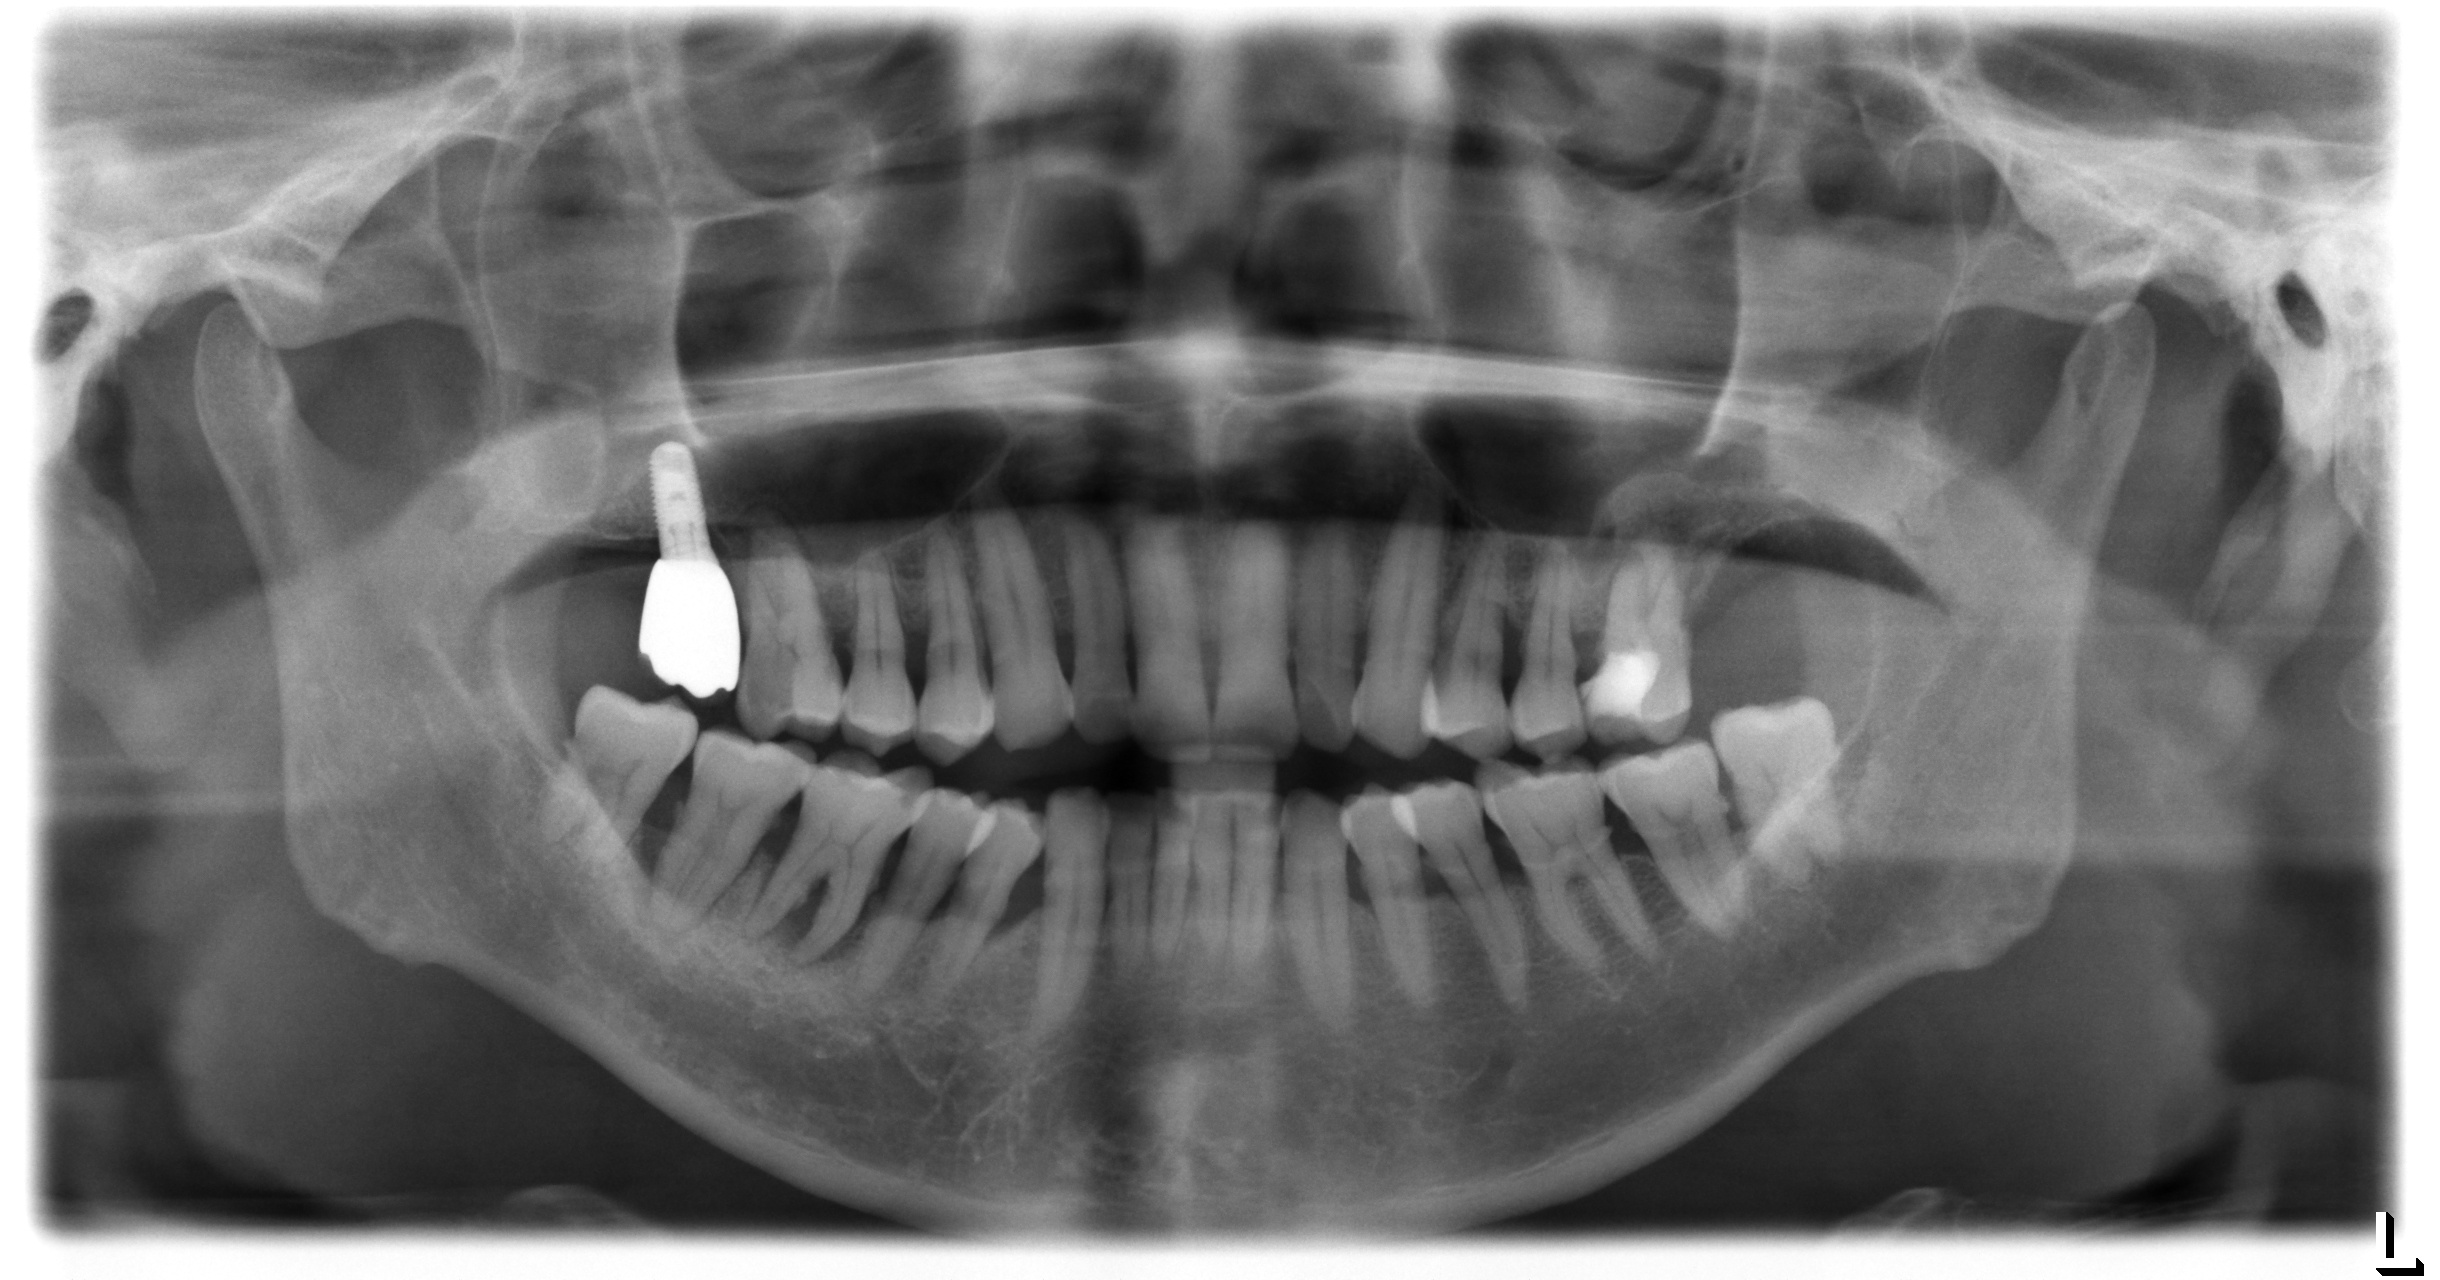Decay: (742, 594, 796, 733)
